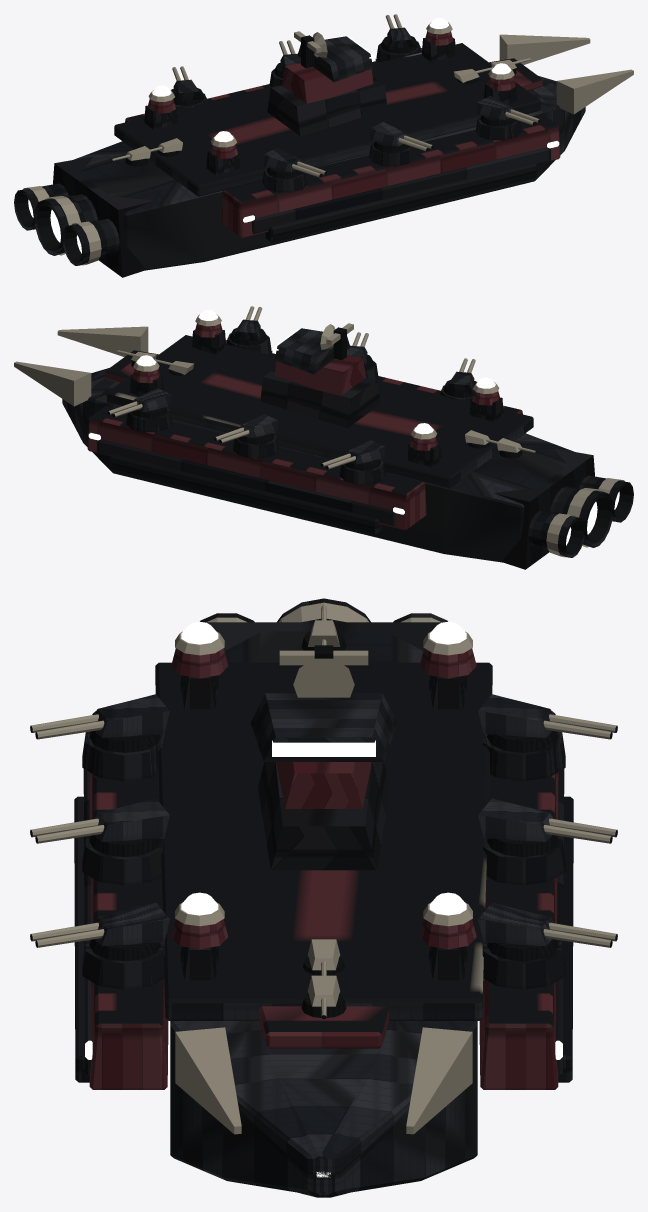
File: cruiser.glb
3 renders of one model, top to bottom at view 1: azimuth 30°, elevation 25°; view 2: azimuth 150°, elevation 25°; view 3: azimuth 270°, elevation 25°, orthographic. The views are drawn at different scales.
Visible parts, largest first — view 1: hull_body, weapon_turrets, engine_block, sensor_tower, shield_pylons; view 2: hull_body, weapon_turrets, engine_block, sensor_tower, shield_pylons; view 3: hull_body, weapon_turrets, sensor_tower, shield_pylons, engine_block.
Boxes of the visible parts, left/top/right/bottom form: hull_body: left=73, top=34, right=633, bottom=270; weapon_turrets: left=111, top=14, right=540, bottom=192; engine_block: left=14, top=156, right=153, bottom=277; sensor_tower: left=267, top=31, right=387, bottom=136; shield_pylons: left=144, top=18, right=517, bottom=175; hull_body: left=14, top=326, right=574, bottom=562; weapon_turrets: left=107, top=306, right=536, bottom=484; engine_block: left=494, top=448, right=633, bottom=569; sensor_tower: left=260, top=323, right=380, bottom=428; shield_pylons: left=130, top=310, right=503, bottom=467; hull_body: left=74, top=631, right=573, bottom=1197; weapon_turrets: left=30, top=605, right=617, bottom=1019; sensor_tower: left=250, top=645, right=397, bottom=870; shield_pylons: left=171, top=621, right=476, bottom=980; engine_block: left=200, top=598, right=447, bottom=650.
Bounding box in the file's own units: 42 × 11.91 × 19.
1 material, 1 textured.
